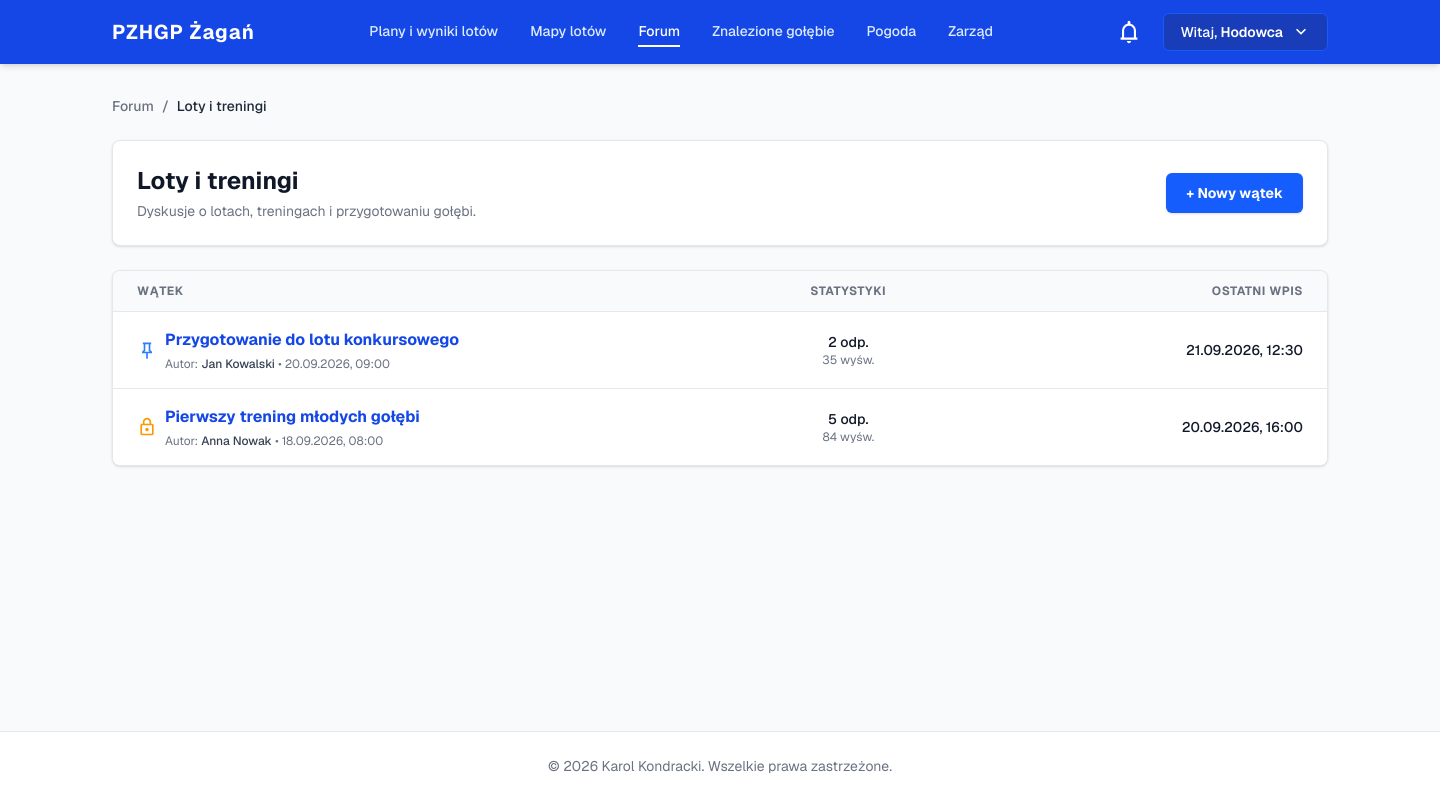
Forum Category Page Tests › Authenticated User › Should require content for the first thread message
Step 1. Click the button "+ Nowy wątek" → (1235,193), box [1166,173,1303,213]
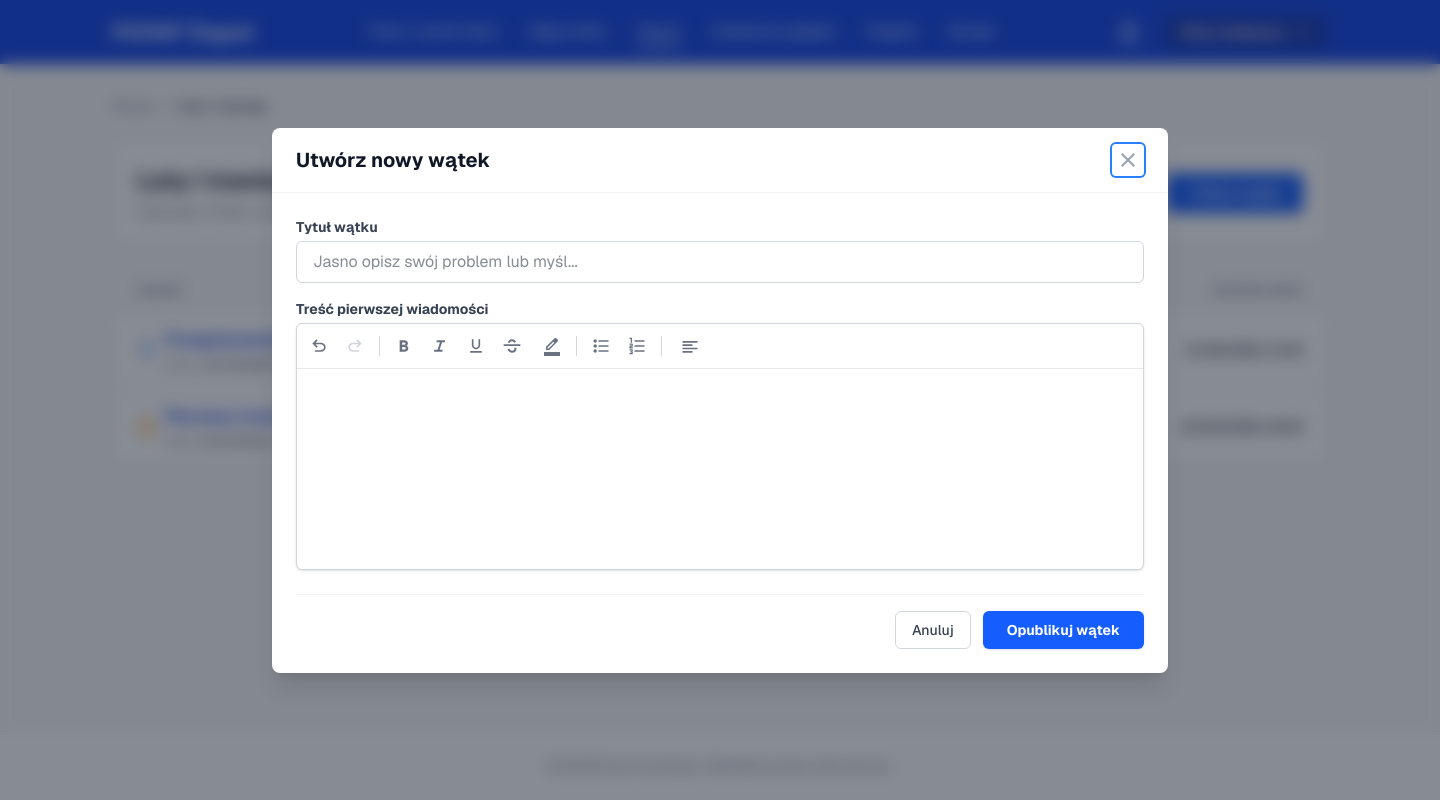
Step 2. Type "Testowy wątek" into the field with id "thread-title" → (720,262), box [296,241,1144,283]
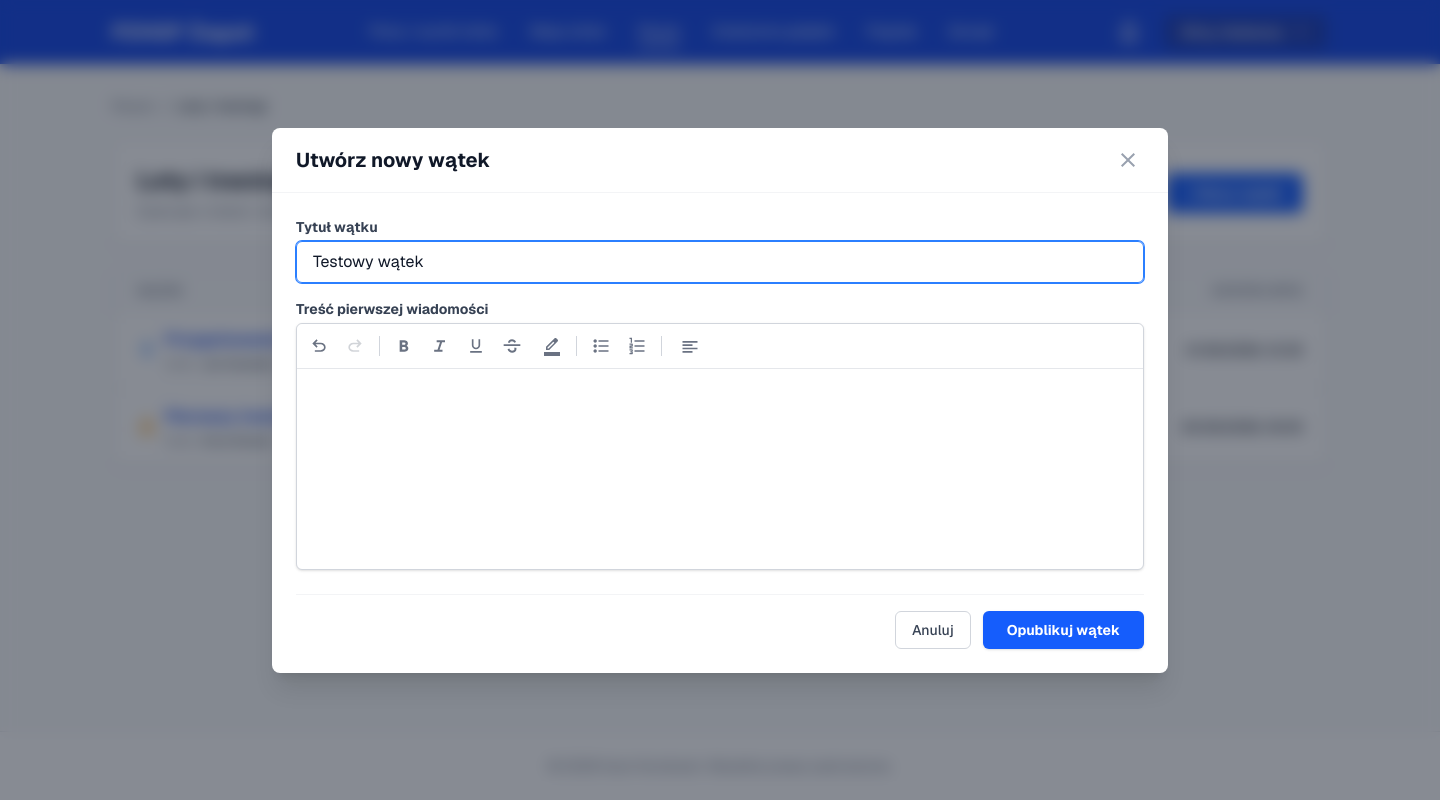
Step 3. Click the button "Opublikuj wątek" → (1064,630), box [983,611,1144,649]
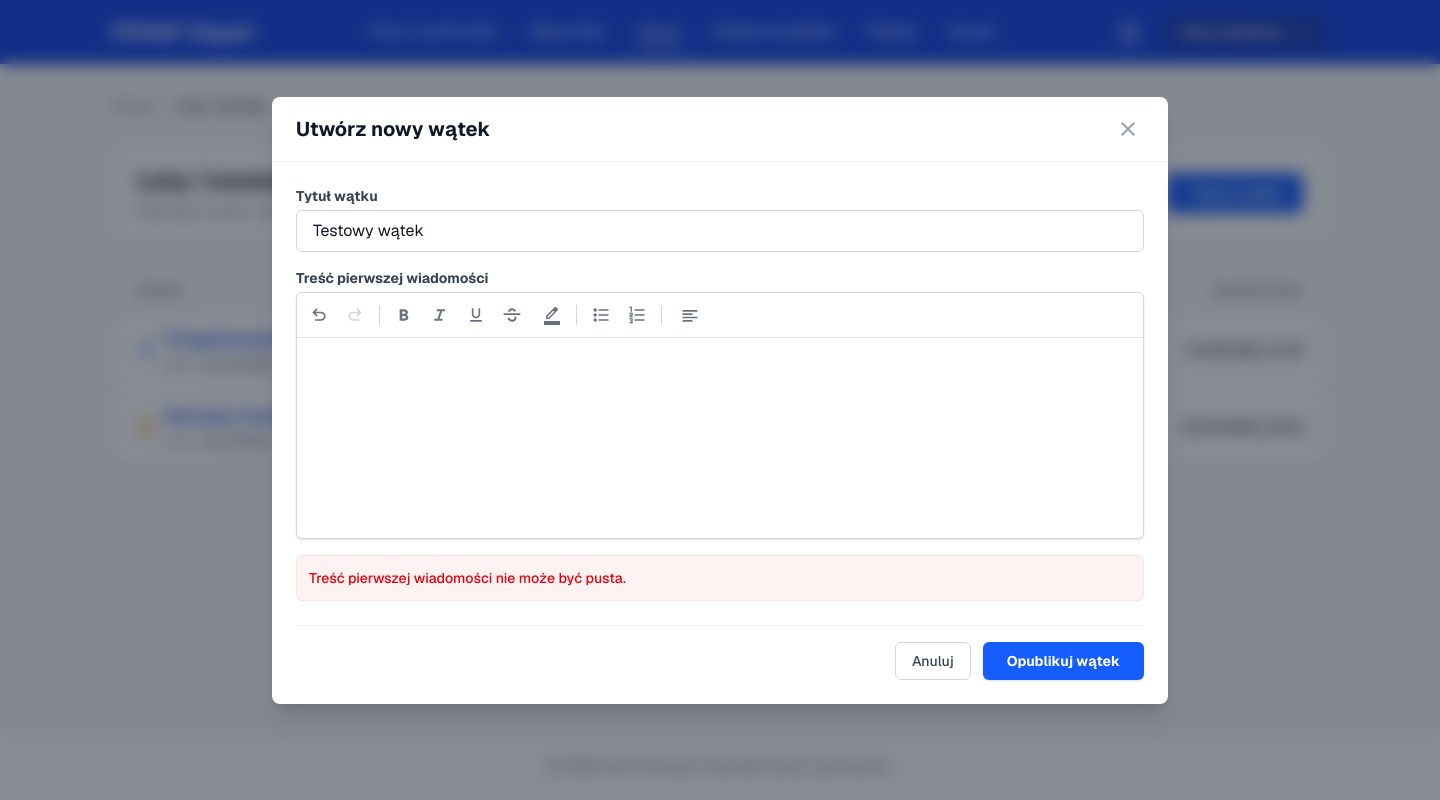
Expected: the message "Treść pierwszej wiadomości nie może być pusta." is shown, [296,554,1144,600]
